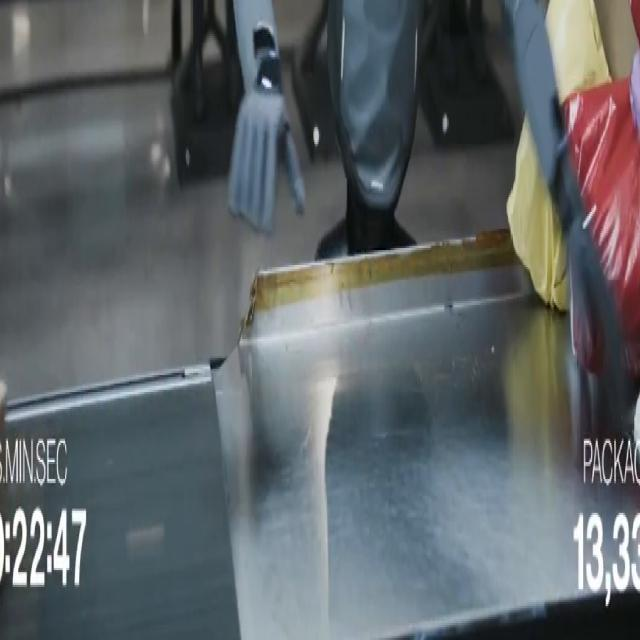package: (563, 79, 639, 375), (507, 119, 568, 311), (595, 0, 637, 80), (0, 380, 6, 453)
